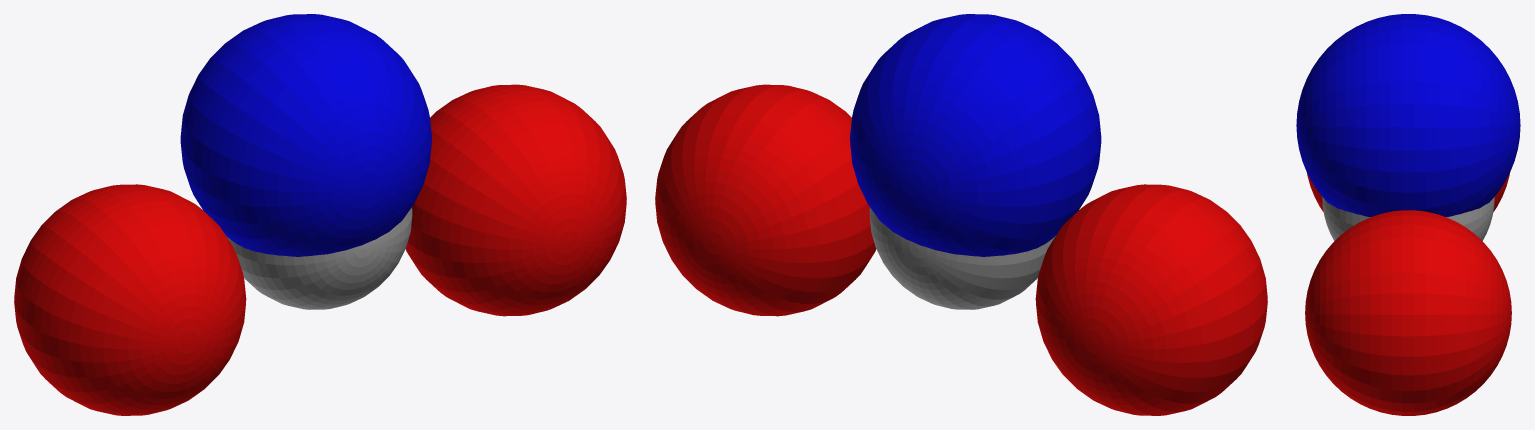
The model's file is Sodium Nitrate.glb.
3 renders of one model, left to right at view 1: azimuth 30°, elevation 25°; view 2: azimuth 150°, elevation 25°; view 3: azimuth 270°, elevation 25°, orthographic. The views are drawn at different scales.
Visible parts, largest first — view 1: world; view 2: world; view 3: world.
Part boxes in pixels (left/top/right/bottom): world: left=14, top=14, right=626, bottom=415; world: left=655, top=14, right=1267, bottom=415; world: left=1296, top=14, right=1520, bottom=415.
Size of the model in its own units: 3.47 by 1.91 by 1.3.
